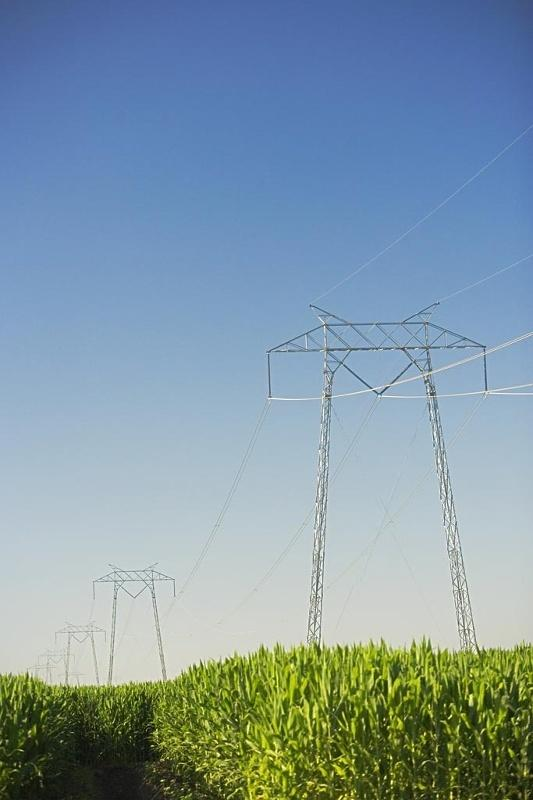power_tower: (250, 293, 498, 667), (87, 556, 182, 684), (50, 622, 104, 684)
